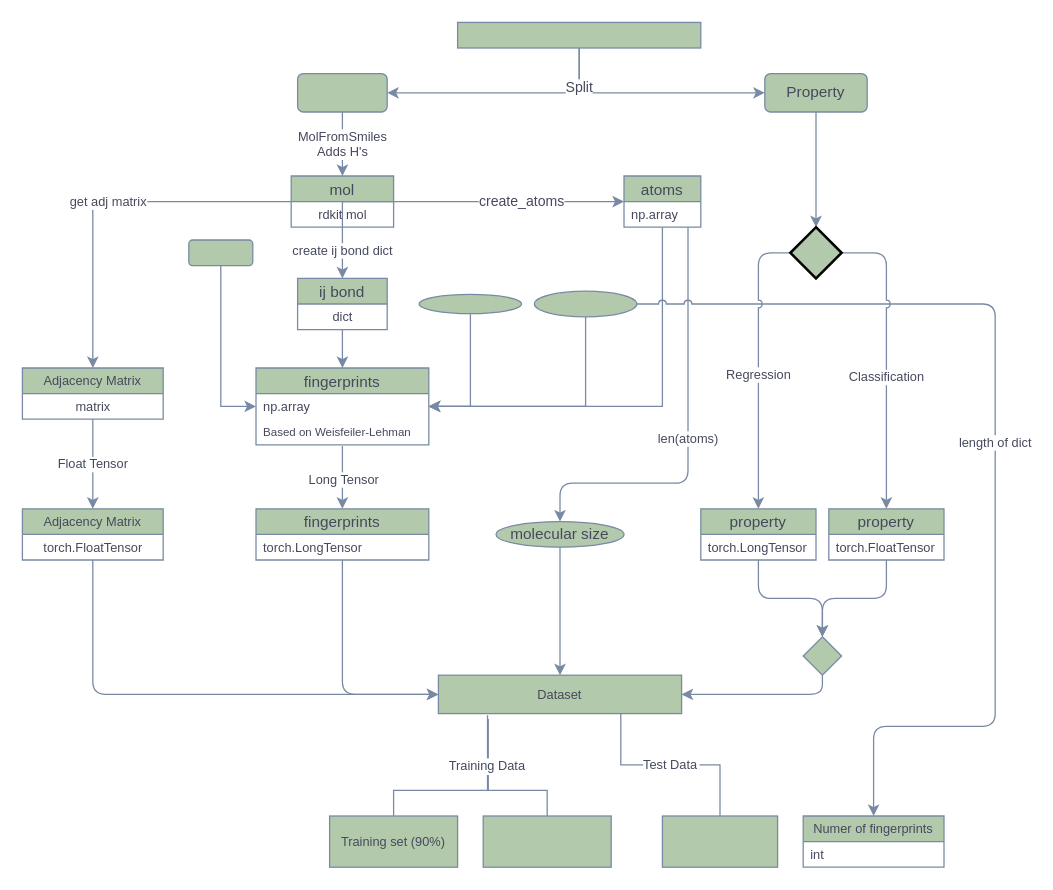
Some shapes in this 1053 by 890 pixel diagram are drawn without their labels. Here are the shapes that lost their labels. From the top down, the centre of each, then its label:
(578,34): Data
(341,92): SMILES
(220,252): radius
(470,303): edge dict
(585,303): fingerprint dict
(546,841): Development Set (10%)
(719,841): Test Set
